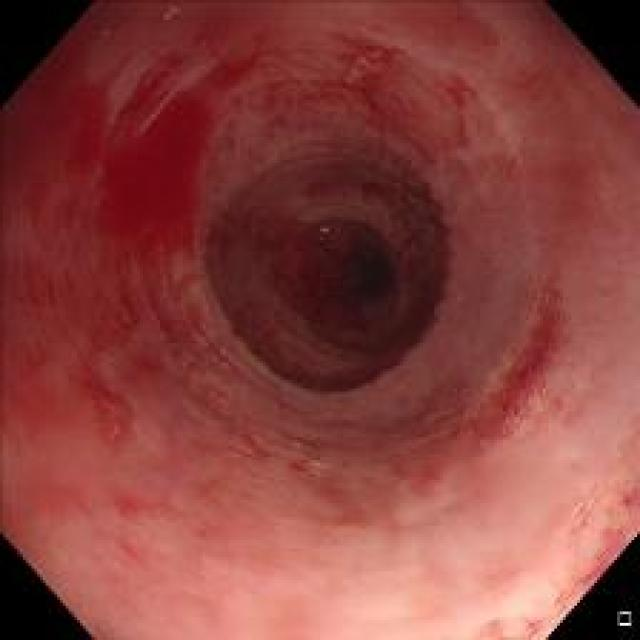blood: (61, 74, 216, 262)
color misalignment: (316, 221, 331, 238)
contrast: (306, 212, 401, 306)
